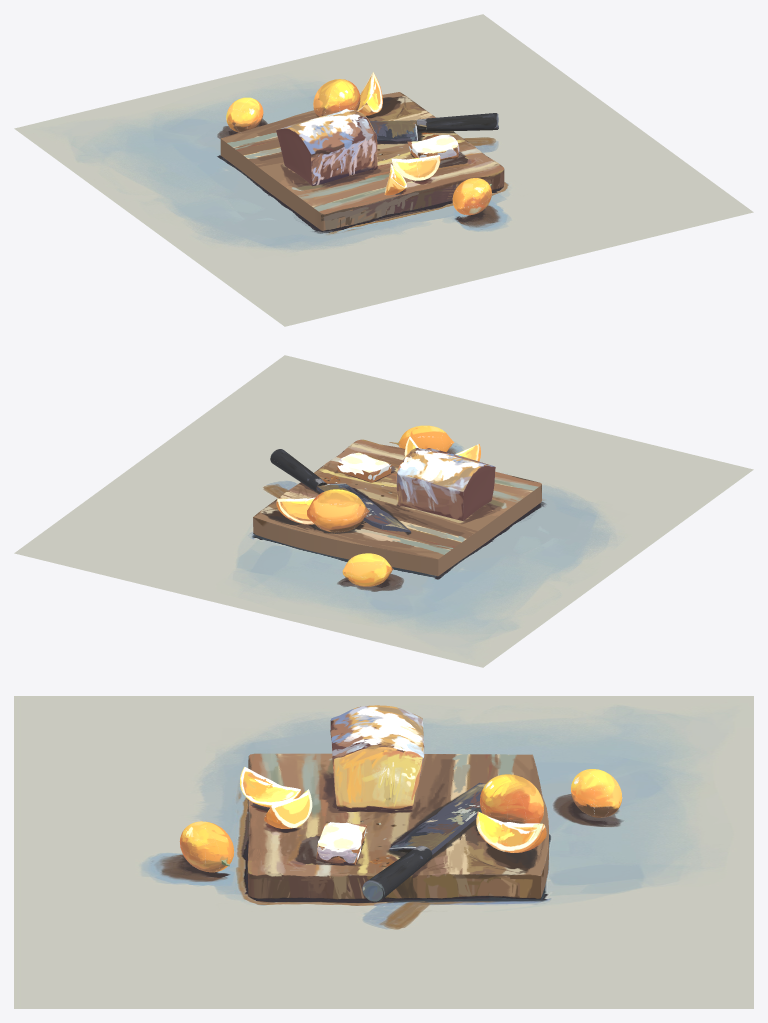
File: portal_1.glb
3 views of the same model, one above another, from view 1: azimuth 30°, elevation 25°; view 2: azimuth 150°, elevation 25°; view 3: azimuth 270°, elevation 25° (orthographic). The views are drawn at different scales.
Visible parts, largest first — view 1: Plane_6, Cube_0, Cube.001_1, Cube.004_3, Cylinder.001_5, Sphere.002_8, Sphere.003_9, Cube.007_4; view 2: Plane_6, Cube_0, Cube.001_1, Cube.004_3, Cylinder.001_5, Sphere.003_9, Cube.007_4, Cube.003_2; view 3: Plane_6, Cube_0, Cube.001_1, Cube.004_3, Cylinder.001_5, Sphere.003_9, Sphere.001_7, Cube.007_4, Sphere.002_8, Cube.003_2.
Boxes of the visible parts, <box> form: Plane_6: <box>14,14,753,326</box>; Cube_0: <box>220,92,504,231</box>; Cube.001_1: <box>276,108,377,186</box>; Cube.004_3: <box>226,79,491,215</box>; Cylinder.001_5: <box>369,113,498,141</box>; Sphere.002_8: <box>391,155,440,180</box>; Sphere.003_9: <box>357,72,382,115</box>; Cube.007_4: <box>409,135,459,158</box>; Plane_6: <box>14,355,753,667</box>; Cube_0: <box>253,439,541,576</box>; Cube.001_1: <box>396,448,495,520</box>; Cube.004_3: <box>307,425,454,586</box>; Cylinder.001_5: <box>270,449,410,532</box>; Sphere.003_9: <box>276,497,315,524</box>; Cube.007_4: <box>337,453,391,480</box>; Cube.003_2: <box>337,452,391,482</box>; Plane_6: <box>14,696,753,1008</box>; Cube_0: <box>247,753,548,899</box>; Cube.001_1: <box>330,705,424,810</box>; Cube.004_3: <box>179,769,622,872</box>; Cylinder.001_5: <box>362,782,485,902</box>; Sphere.003_9: <box>476,811,546,852</box>; Sphere.001_7: <box>240,767,300,807</box>; Cube.007_4: <box>317,822,366,863</box>; Sphere.002_8: <box>264,789,312,828</box>; Cube.003_2: <box>316,821,367,864</box>.
Size of the model in its own units: 4.61 by 0.6255 by 4.61.
3 materials, 3 textured.
